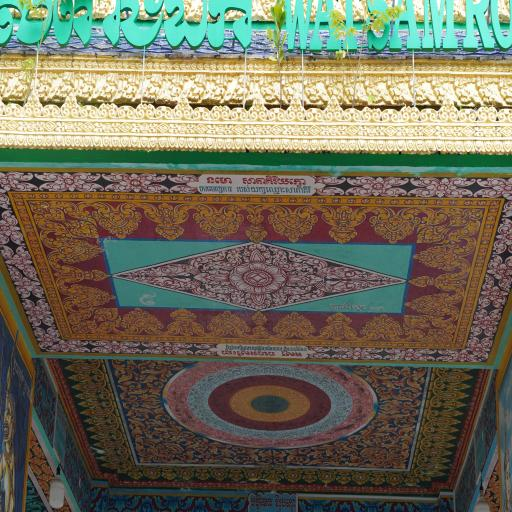hoa: (0, 243, 44, 299), (230, 261, 286, 297), (406, 177, 474, 200), (101, 174, 172, 196), (33, 173, 104, 192), (478, 273, 512, 312), (346, 177, 408, 198), (0, 208, 25, 256), (467, 305, 499, 341), (21, 295, 57, 327), (89, 336, 144, 356), (39, 334, 90, 355), (382, 346, 438, 364), (139, 338, 194, 356), (484, 249, 512, 282), (434, 348, 488, 364), (473, 177, 512, 199), (331, 346, 384, 362), (493, 213, 512, 255), (0, 174, 39, 191), (37, 324, 59, 352), (193, 342, 220, 360), (486, 476, 502, 505), (308, 344, 330, 364), (34, 472, 56, 484), (30, 428, 40, 450), (26, 456, 48, 466)
la: (190, 282, 326, 308), (31, 202, 103, 250), (187, 246, 330, 268), (324, 260, 406, 294), (416, 207, 482, 249), (39, 232, 107, 270), (124, 265, 202, 298), (405, 286, 464, 326), (265, 205, 322, 243), (139, 202, 194, 240), (318, 204, 370, 244), (368, 206, 422, 244), (192, 204, 246, 242), (91, 203, 143, 241), (414, 245, 472, 275), (66, 304, 122, 334), (135, 360, 185, 392), (52, 261, 110, 288), (400, 313, 450, 344), (308, 441, 361, 470), (36, 372, 56, 445), (406, 271, 469, 293), (59, 282, 114, 307), (204, 309, 251, 338), (118, 304, 163, 334), (271, 313, 319, 341), (316, 311, 358, 342), (361, 443, 409, 470), (166, 306, 202, 342), (242, 204, 272, 242), (359, 315, 400, 342), (65, 361, 111, 385), (350, 420, 392, 446), (149, 408, 183, 440), (70, 380, 115, 404), (83, 424, 128, 446), (431, 386, 468, 412), (78, 405, 123, 426), (217, 443, 258, 466), (391, 410, 416, 446), (154, 492, 196, 512), (96, 455, 138, 475), (204, 493, 248, 512), (434, 368, 472, 390), (151, 440, 185, 464), (88, 439, 133, 457), (414, 462, 450, 484), (426, 414, 460, 436), (418, 444, 454, 464), (108, 490, 140, 512), (113, 359, 138, 387), (283, 444, 313, 467), (422, 430, 456, 450), (298, 496, 340, 512), (350, 497, 394, 512), (180, 430, 210, 452), (356, 363, 382, 388), (128, 414, 151, 442), (400, 366, 430, 386), (396, 384, 420, 409), (66, 430, 76, 487), (487, 387, 498, 438), (137, 438, 157, 464), (259, 446, 287, 464), (118, 390, 140, 412), (403, 499, 440, 512), (262, 468, 286, 487), (188, 496, 214, 512), (135, 495, 158, 512), (386, 470, 405, 490), (142, 466, 163, 484), (95, 488, 110, 512), (242, 466, 262, 484), (176, 465, 194, 484), (301, 470, 321, 487), (210, 467, 230, 484), (46, 381, 57, 411), (194, 466, 212, 484), (317, 470, 337, 486), (370, 472, 387, 490), (36, 477, 52, 496), (33, 370, 41, 408), (282, 470, 303, 484), (403, 471, 420, 488), (34, 356, 46, 380), (351, 470, 371, 484), (128, 468, 145, 484), (438, 497, 456, 512), (30, 444, 46, 460), (228, 468, 244, 484), (160, 467, 176, 483), (89, 484, 102, 502), (336, 471, 352, 485), (42, 462, 54, 477), (338, 500, 353, 512), (29, 462, 41, 475), (393, 502, 407, 512), (64, 456, 69, 481)
